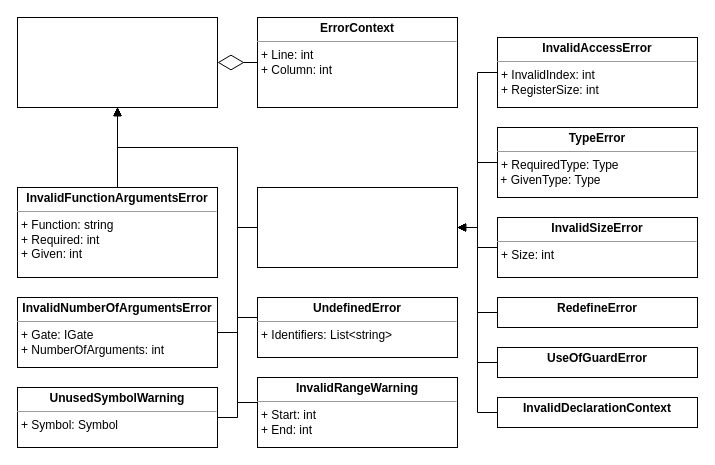
Some shapes in this 715 by 465 pixel diagram are drawn without their labels. The shapes that lost their labels are listed below. From the top down, each one's centre as x and y in pixels, then its label:
point (117, 62): CompilationError {abstract} + Description: string + ErrorContext: ErrorContext
point (357, 227): IdentifierError {abstract} + Identifier: string
